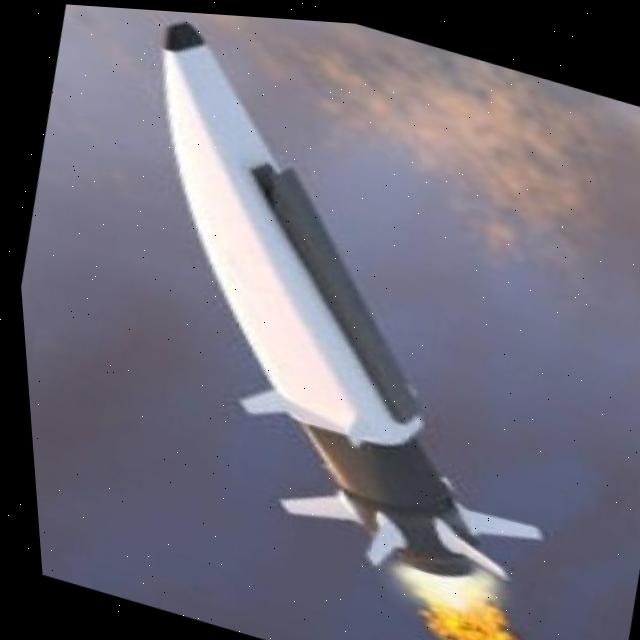missile: (51, 7, 639, 634)
